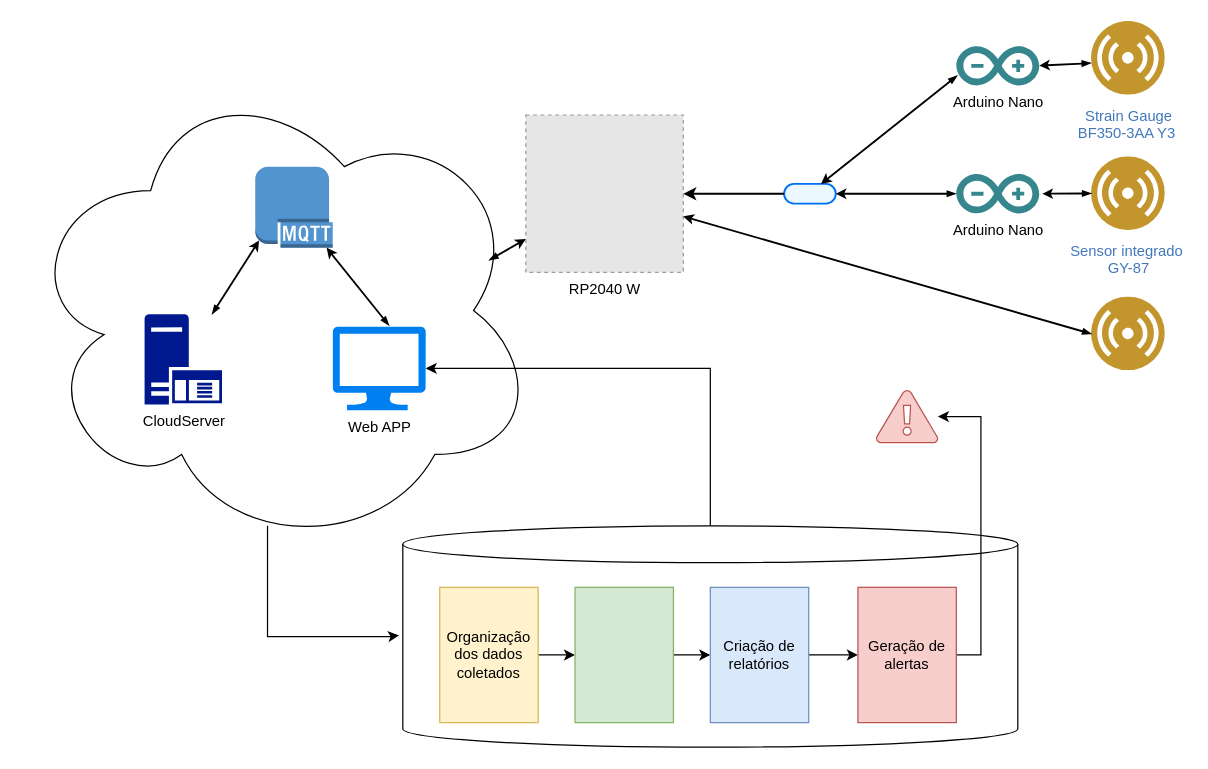
Some shapes in this 1208 by 769 pixel diagram are drawn without their labels. Grey dashed boxes stand in for pictures. The box of each missing label's shape, as (x1, y1, x2, y2) in pixels:
Classificação dos dados baseado na escala de risco: (574, 586, 673, 723)
HiveMQ: (254, 165, 333, 248)
RS485: (783, 182, 836, 204)
Sensor de continuidade: (1091, 296, 1165, 370)
Serviço de Notificação: (875, 389, 938, 443)
